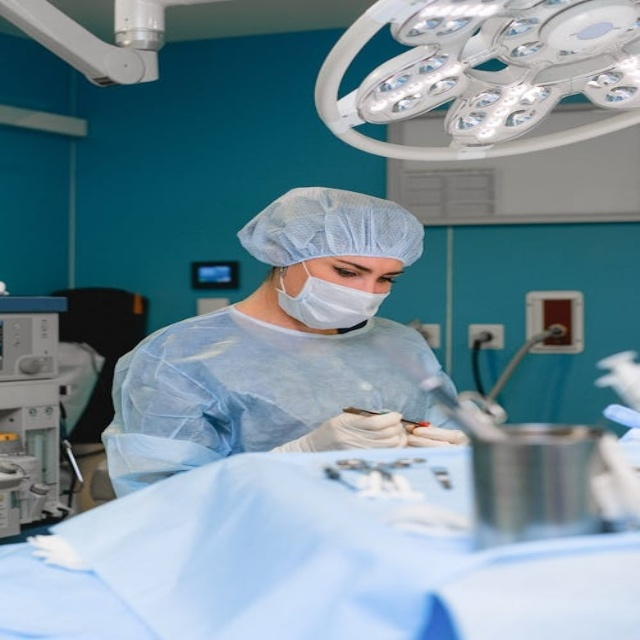Guantes: (271, 408, 406, 452), (406, 424, 467, 447)
Mascara: (275, 259, 389, 331)
Sin_gafas: (320, 255, 410, 288)
